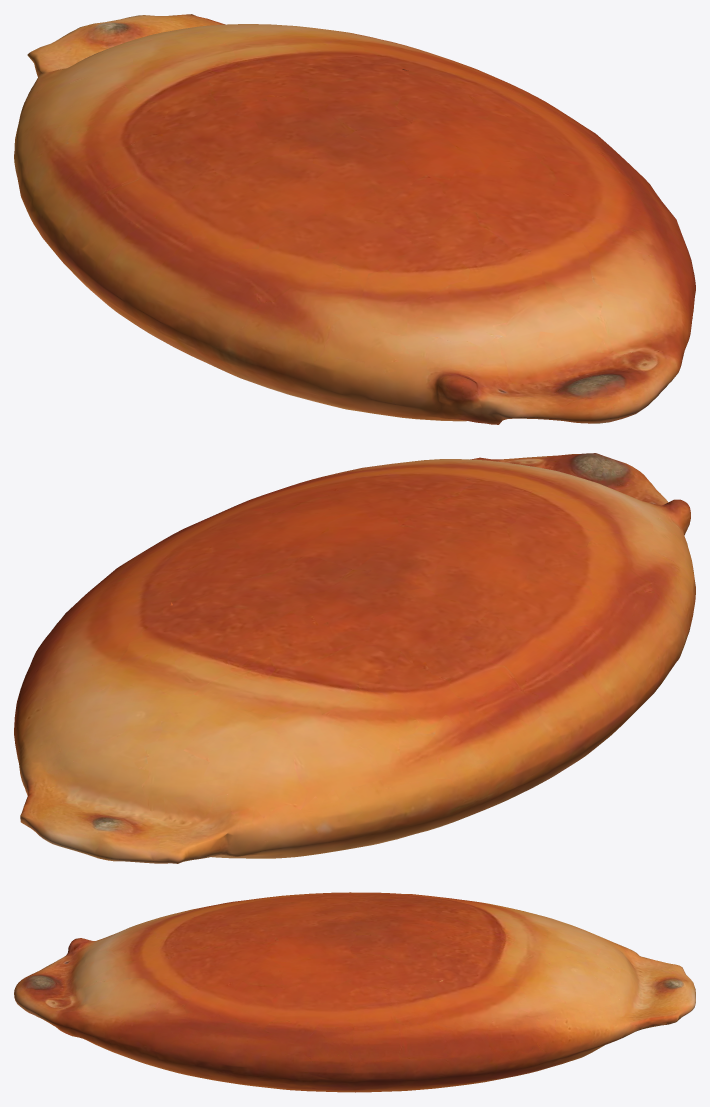
File: trichuris-trichiura_H_optimized.glb
3 views of the same model, one above another, from view 1: azimuth 30°, elevation 25°; view 2: azimuth 150°, elevation 25°; view 3: azimuth 270°, elevation 25° (orthographic). The views are drawn at different scales.
Bounding box in the file's own units: 1.12 × 0.3769 × 1.99.
Materials: 1 (1 with a texture image).
